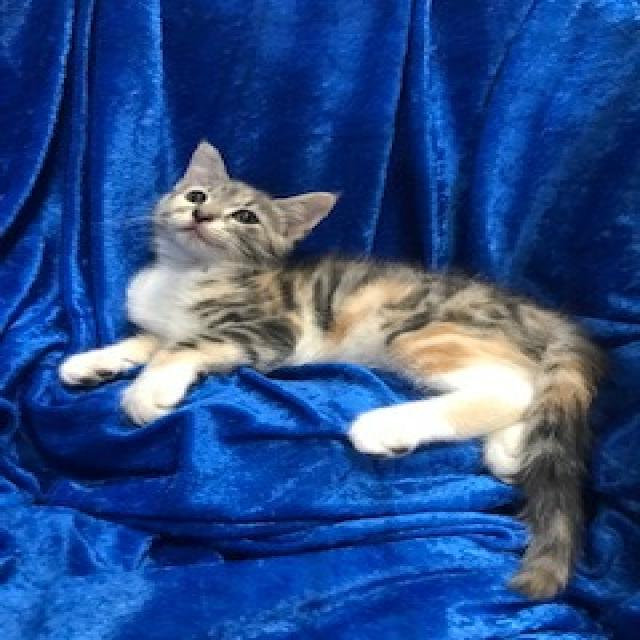maine_coon_cat: (127, 140, 352, 279)
